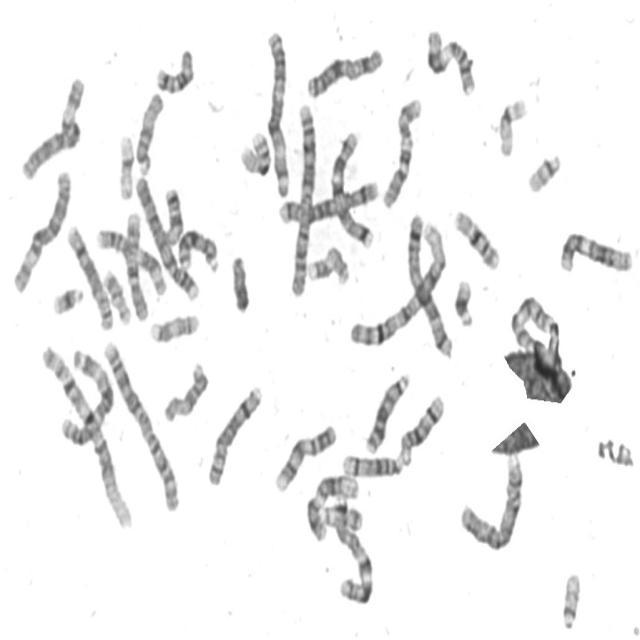A1: (36, 338, 135, 534), (345, 217, 449, 350)
A2: (97, 334, 182, 513), (286, 97, 318, 300)
A3: (56, 343, 115, 447), (262, 23, 293, 199)
B4: (131, 168, 201, 304), (457, 449, 525, 553)
B5: (403, 209, 455, 359), (274, 173, 381, 226)
C10: (379, 90, 424, 211), (121, 205, 151, 324)
C11: (92, 222, 168, 298), (423, 23, 478, 98)
C12: (303, 468, 361, 545), (556, 225, 635, 276)
C6: (9, 162, 73, 294), (17, 70, 87, 182)
C7: (327, 125, 376, 251), (330, 509, 375, 606)
C8: (203, 377, 264, 488), (63, 219, 115, 332)
C9: (503, 284, 567, 366), (272, 418, 338, 494)
D13: (362, 366, 412, 456), (174, 222, 221, 276)
D14: (396, 388, 446, 466), (338, 446, 406, 480)
D15: (160, 357, 210, 425), (132, 85, 165, 177)
E16: (450, 202, 502, 272), (236, 124, 274, 178)
E17: (304, 240, 351, 286), (146, 307, 202, 345)
E18: (152, 42, 196, 96), (160, 181, 185, 245)
F19: (494, 90, 530, 159), (114, 128, 136, 202)
F20: (100, 264, 133, 326), (319, 498, 364, 532)
G21: (48, 280, 86, 318), (451, 273, 476, 329)
G22: (524, 146, 563, 195), (558, 566, 583, 631)
X: (303, 40, 385, 100)
Y: (227, 249, 252, 315)
